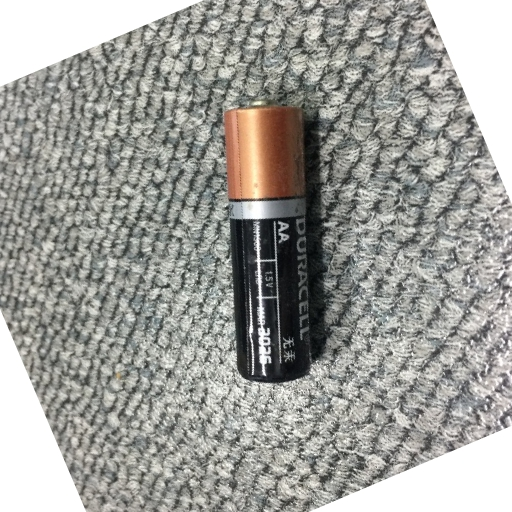Battery_0: (214, 83, 333, 393)
